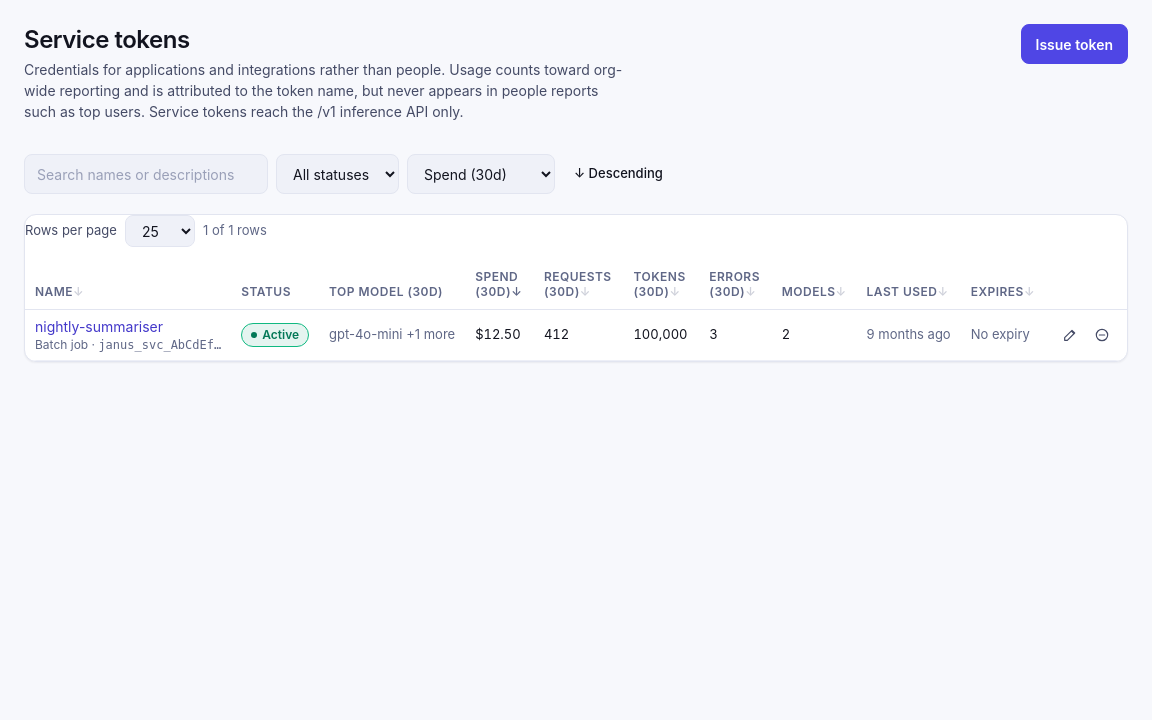
Test case: ServiceTokensPage › explains what a revocation actually does before confirming
What coordinates should you click on to do the following:
click the button named "Revoke"
I would click on:
 (1102, 335)
Its box is [1087,320,1117,350].
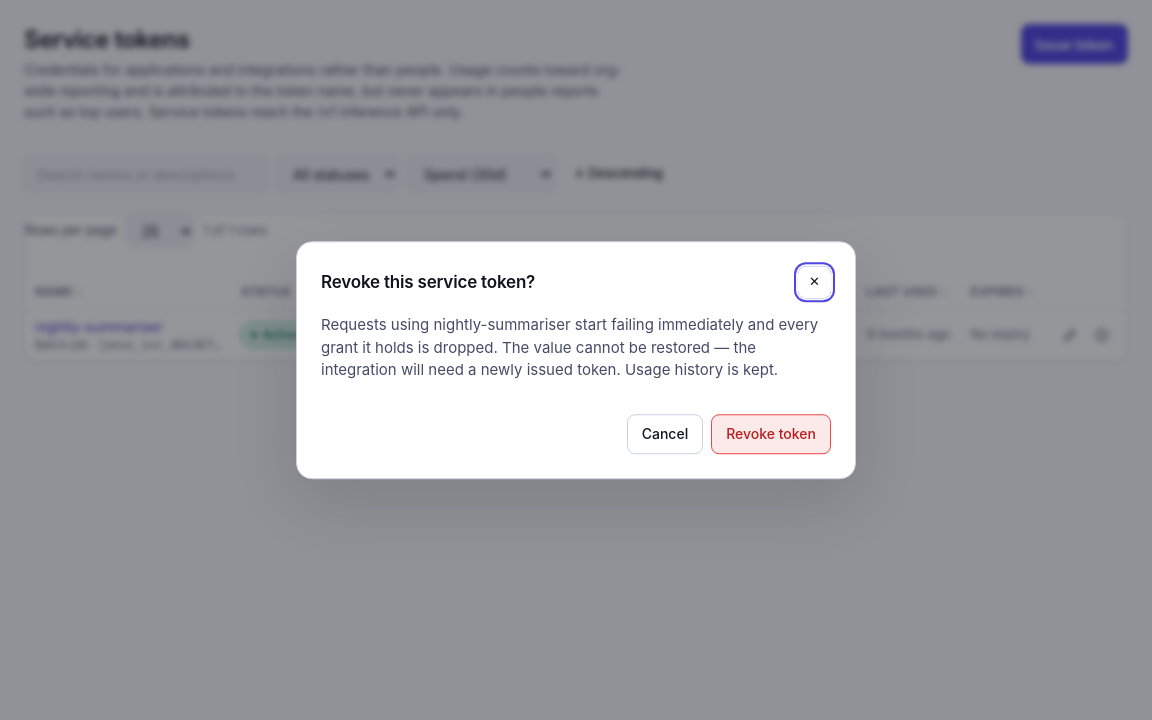
Result: the text "cannot be restored" is shown at [321,315,818,379]
